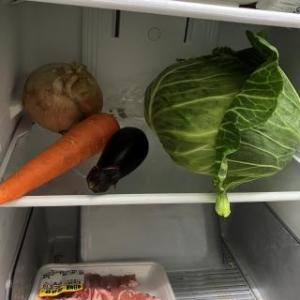cabbage: (142, 28, 300, 220)
carrot: (0, 111, 122, 207)
eggplant: (84, 126, 150, 195)
onion: (23, 61, 106, 137)
